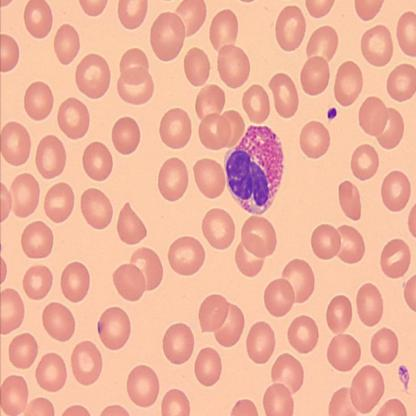Eosinophil: (224, 125, 284, 216)
